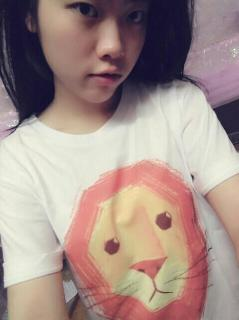short sleeve top: (0, 77, 239, 319)
